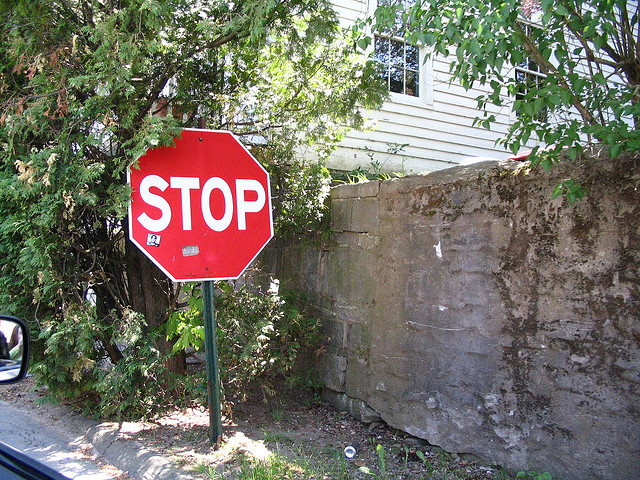Stop: (127, 126, 276, 281)
